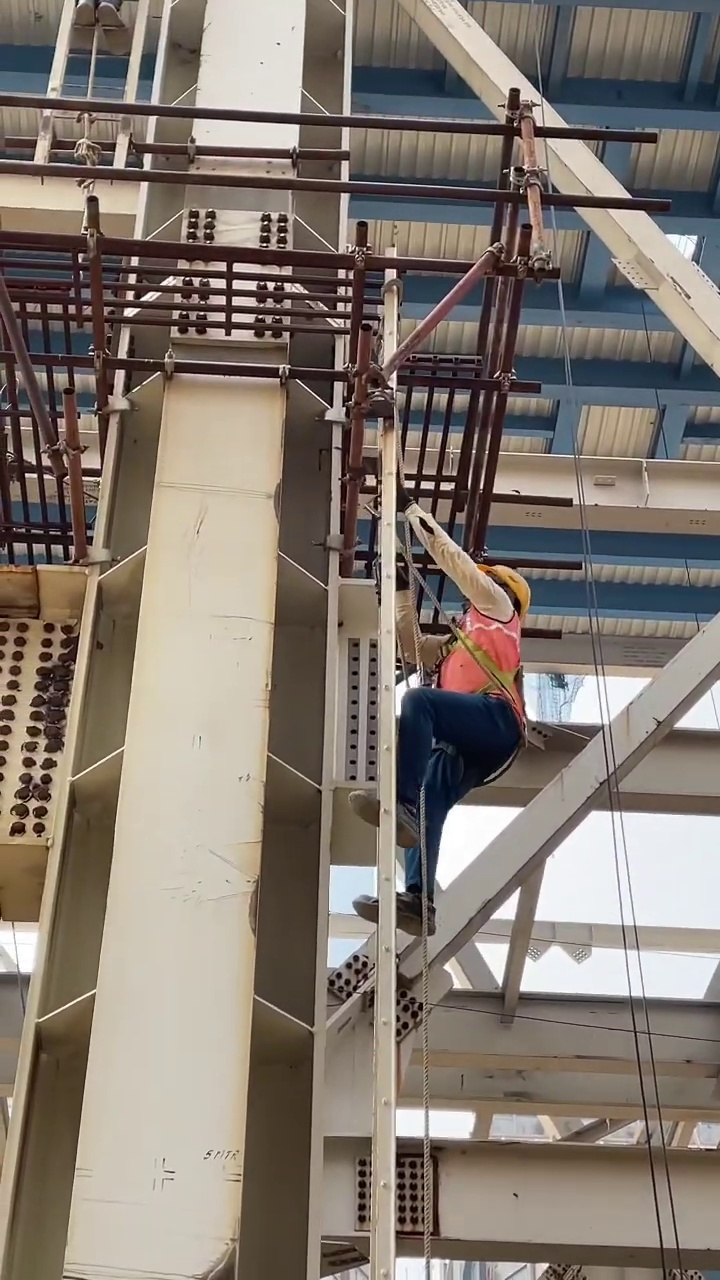Helmet: (478, 557, 531, 608)
Person: (347, 555, 536, 935)
Safety_Harness: (418, 612, 530, 750)
Safety_shoes: (348, 790, 421, 850), (350, 888, 437, 937)
